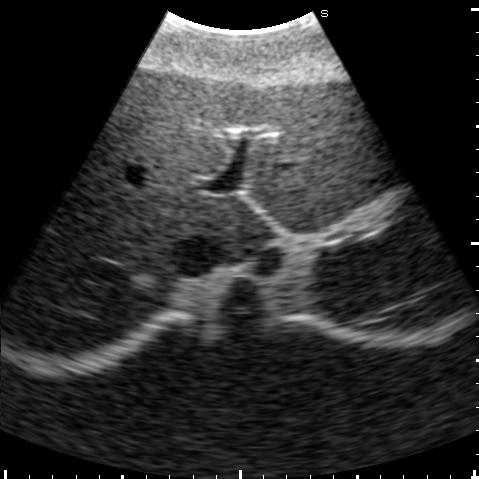IVC: (168, 235, 226, 276)
S1: (212, 198, 277, 251)
S2: (247, 165, 404, 232)
S3: (240, 78, 397, 202)
